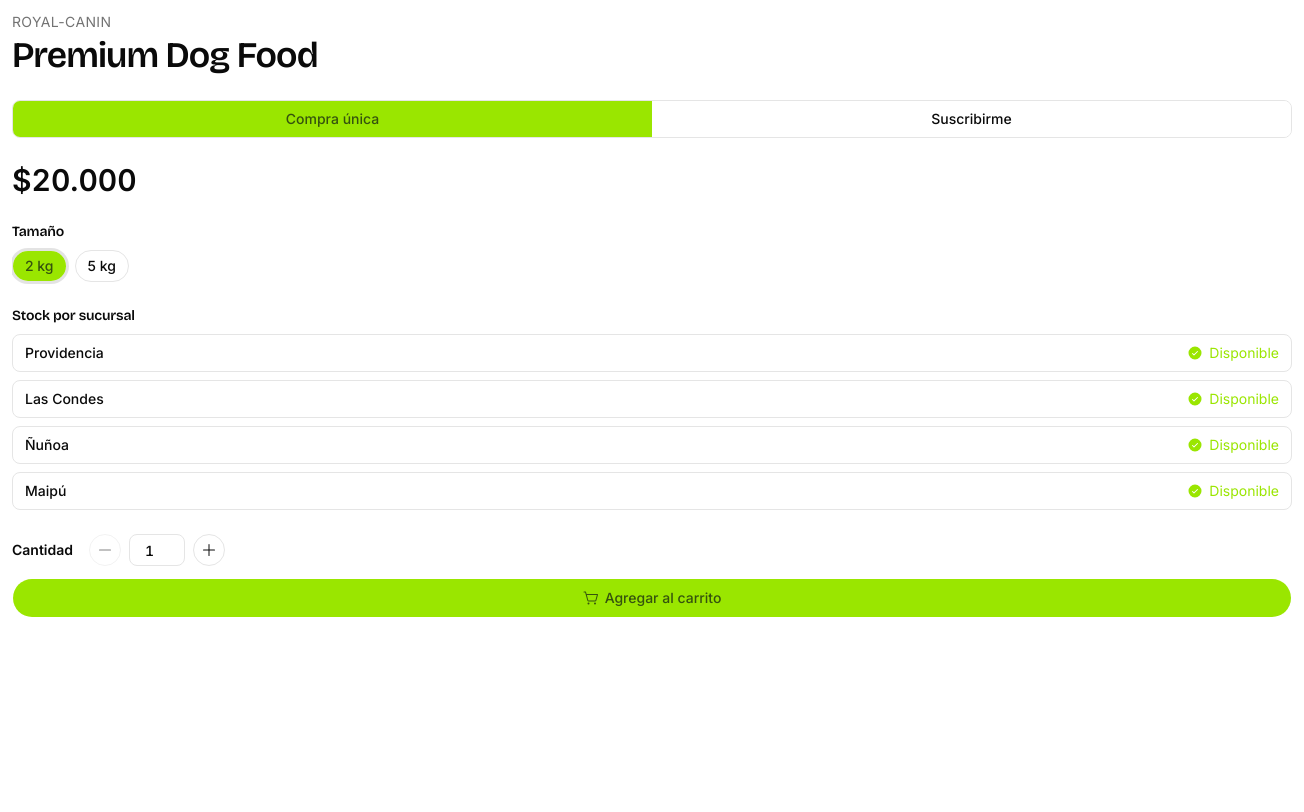
Test: ProductPurchasePanel — subscription toggle (T-25) › reverts to full price when switching back to one-time purchase
Switch to subscription
What coordinates should you click on to do the following:
click the button "Suscribirme"
I would click on:
 (972, 119)
Its box is [652,101,1291,137].
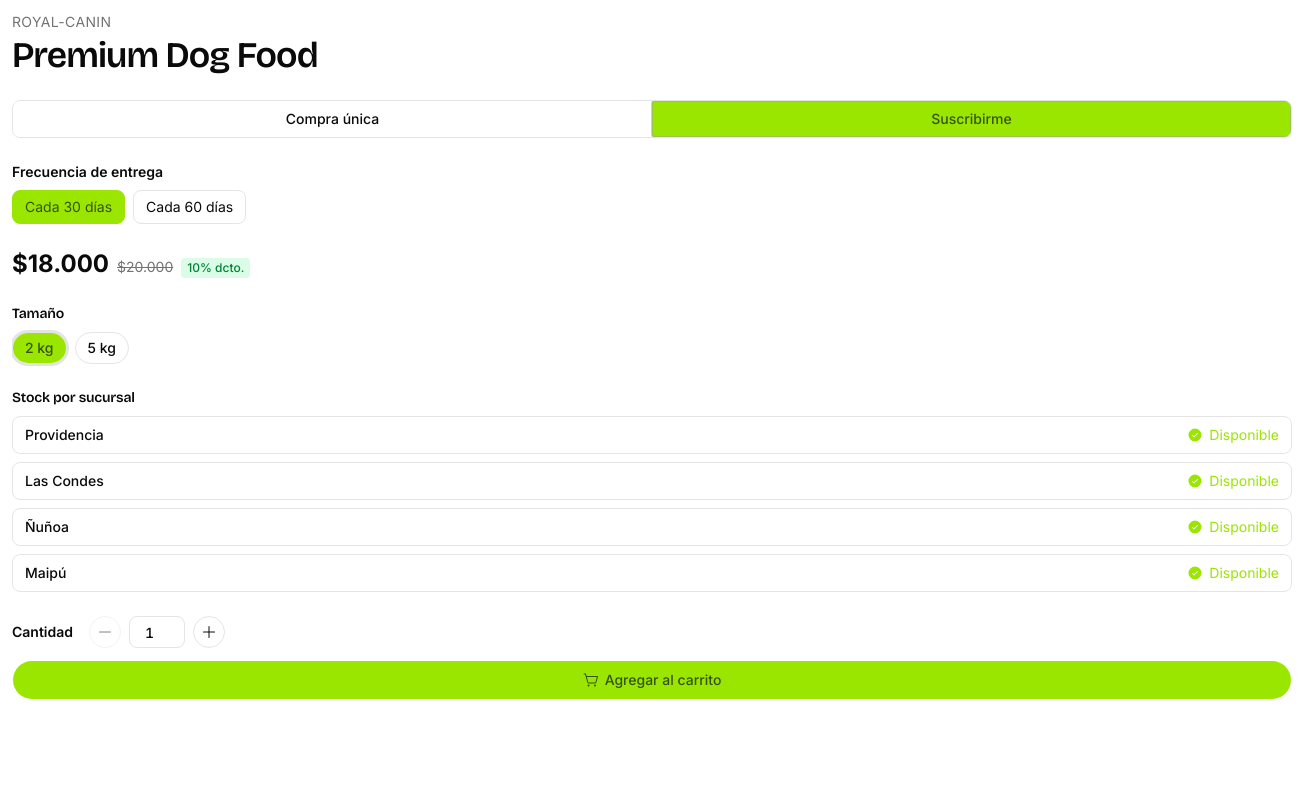
Expected: the text "$18.000" is shown, [12,248,109,280]
Switch back to one-time
What coordinates should you click on to do the following:
click the button "Compra única"
I would click on:
 (332, 119)
Its box is [13,101,652,137].
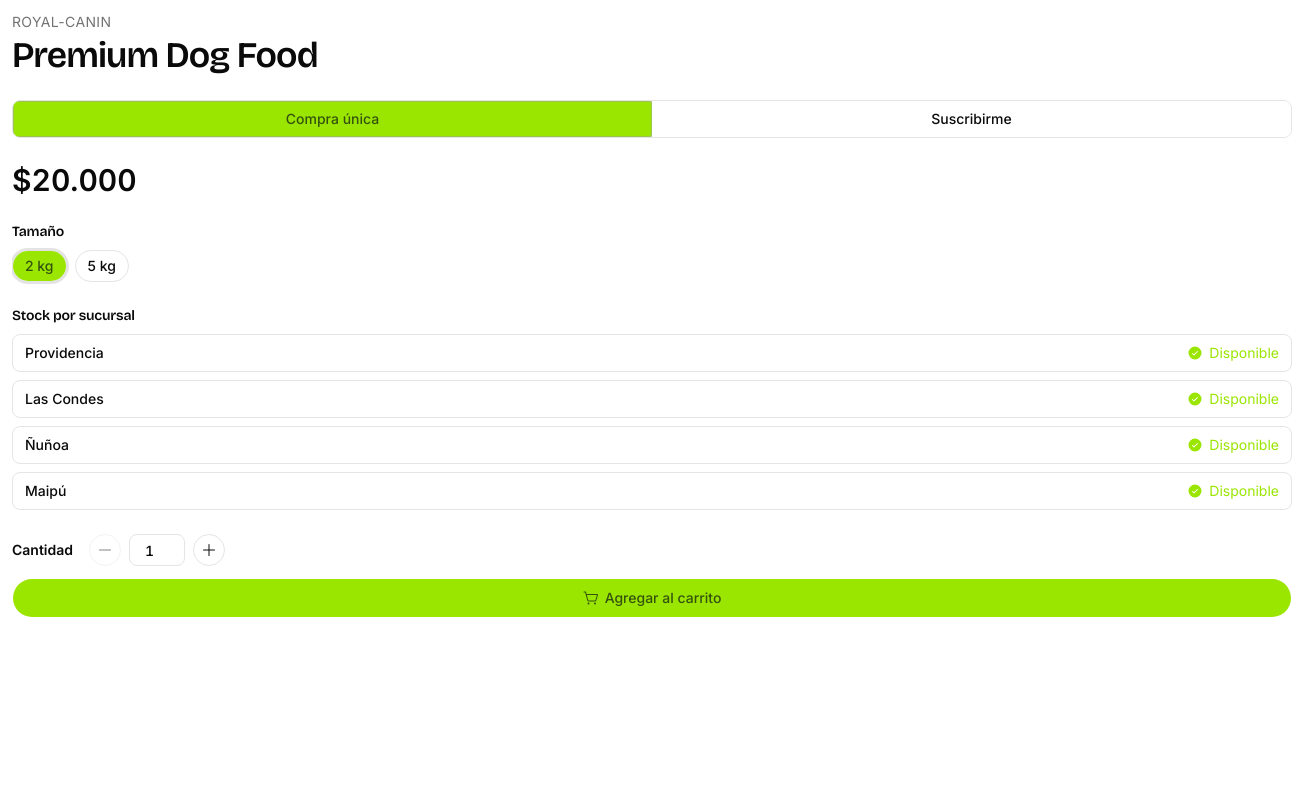
Expected: the text "$20.000" is shown, [12,162,137,198]
Expected: the text "$18.000" is gone
